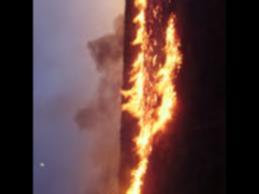fire: (99, 0, 190, 194)
